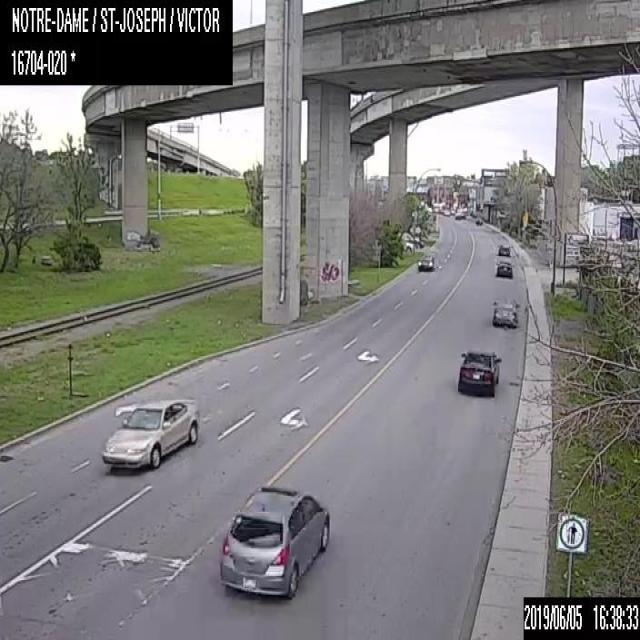vehicle: (220, 485, 329, 600), (101, 398, 199, 469), (457, 349, 501, 396), (492, 297, 520, 328), (495, 260, 514, 278), (417, 253, 434, 270), (497, 243, 511, 254), (454, 212, 465, 219), (474, 218, 482, 225), (443, 210, 450, 215)
